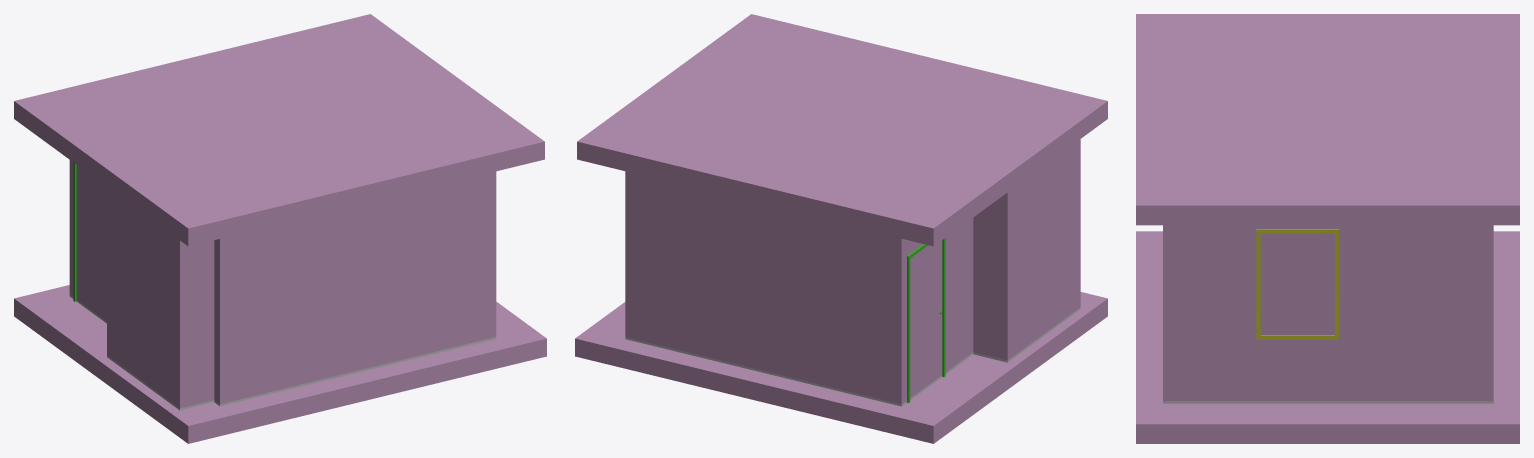
File: FloorPlan310.fbx
The picture shows the model from 3 angles, left to right: view 1: azimuth 30°, elevation 25°; view 2: azimuth 150°, elevation 25°; view 3: azimuth 270°, elevation 25°; orthographic projection. The views are drawn at different scales.
Visible parts, largest first — view 1: StandardWallSize.008, Ceiling.006, Floor.007, StandardDoorFrame1.006; view 2: StandardWallSize.008, Ceiling.006, Floor.007, StandardDoorFrame1.006; view 3: Ceiling.006, StandardWallSize.008, Floor.007, StandardWindow3.003.
Part boxes in pixels (box(x1,y1,x2,y2)): StandardWallSize.008: box(69, 160, 496, 410); Ceiling.006: box(14, 14, 544, 246); Floor.007: box(14, 285, 546, 443); StandardDoorFrame1.006: box(73, 162, 76, 301); StandardWallSize.008: box(625, 139, 1080, 406); Ceiling.006: box(577, 14, 1107, 246); Floor.007: box(575, 292, 1107, 443); StandardDoorFrame1.006: box(907, 238, 945, 402); Ceiling.006: box(1136, 14, 1519, 225); StandardWallSize.008: box(1163, 225, 1493, 403); Floor.007: box(1136, 231, 1519, 443); StandardWindow3.003: box(1256, 229, 1339, 339).
Size of the model in its own units: 523 by 300 by 440.
